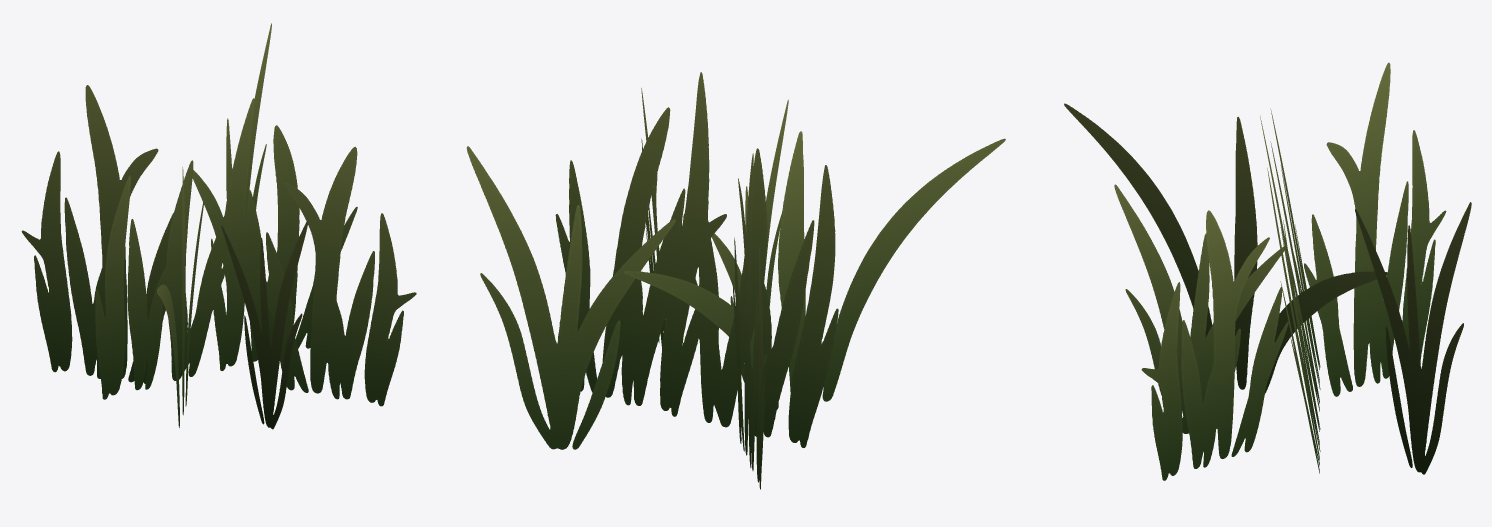
The picture shows the model from 3 angles, left to right: view 1: azimuth 30°, elevation 25°; view 2: azimuth 150°, elevation 25°; view 3: azimuth 270°, elevation 25°; orthographic projection. The views are drawn at different scales.
Visible parts, largest first — view 1: pl-grass-lush-c; view 2: pl-grass-lush-c; view 3: pl-grass-lush-c.
Boxes of the visible parts, bbox=[...] form: pl-grass-lush-c: bbox=[21, 23, 416, 429]; pl-grass-lush-c: bbox=[466, 72, 1005, 489]; pl-grass-lush-c: bbox=[1064, 62, 1471, 480].
Bounding box in the file's own units: 0.8143 × 0.736 × 0.8119.
1 material, 1 textured.
